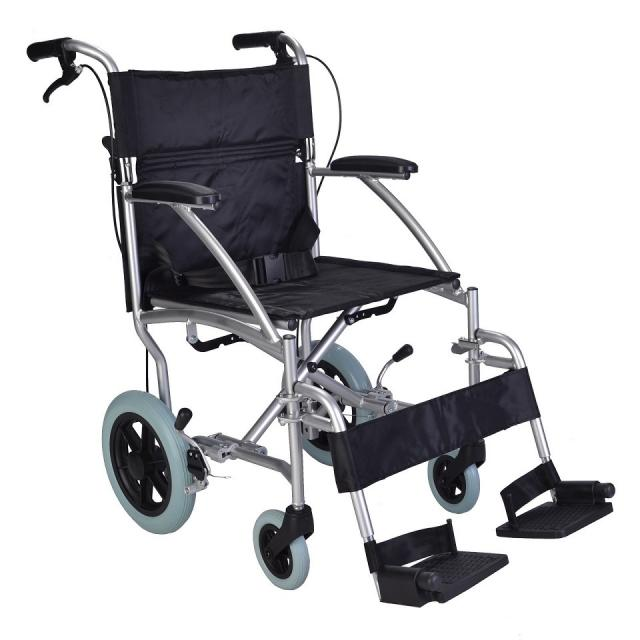wheelchair: (29, 20, 629, 617)
